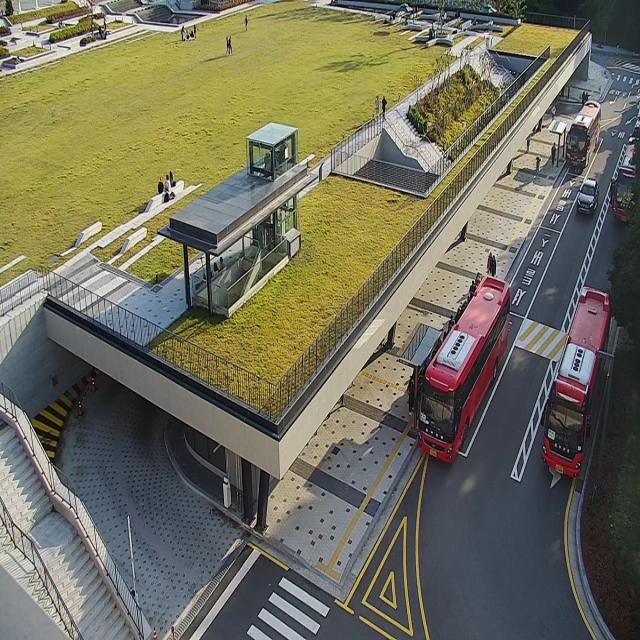queue: (412, 272, 482, 431)
